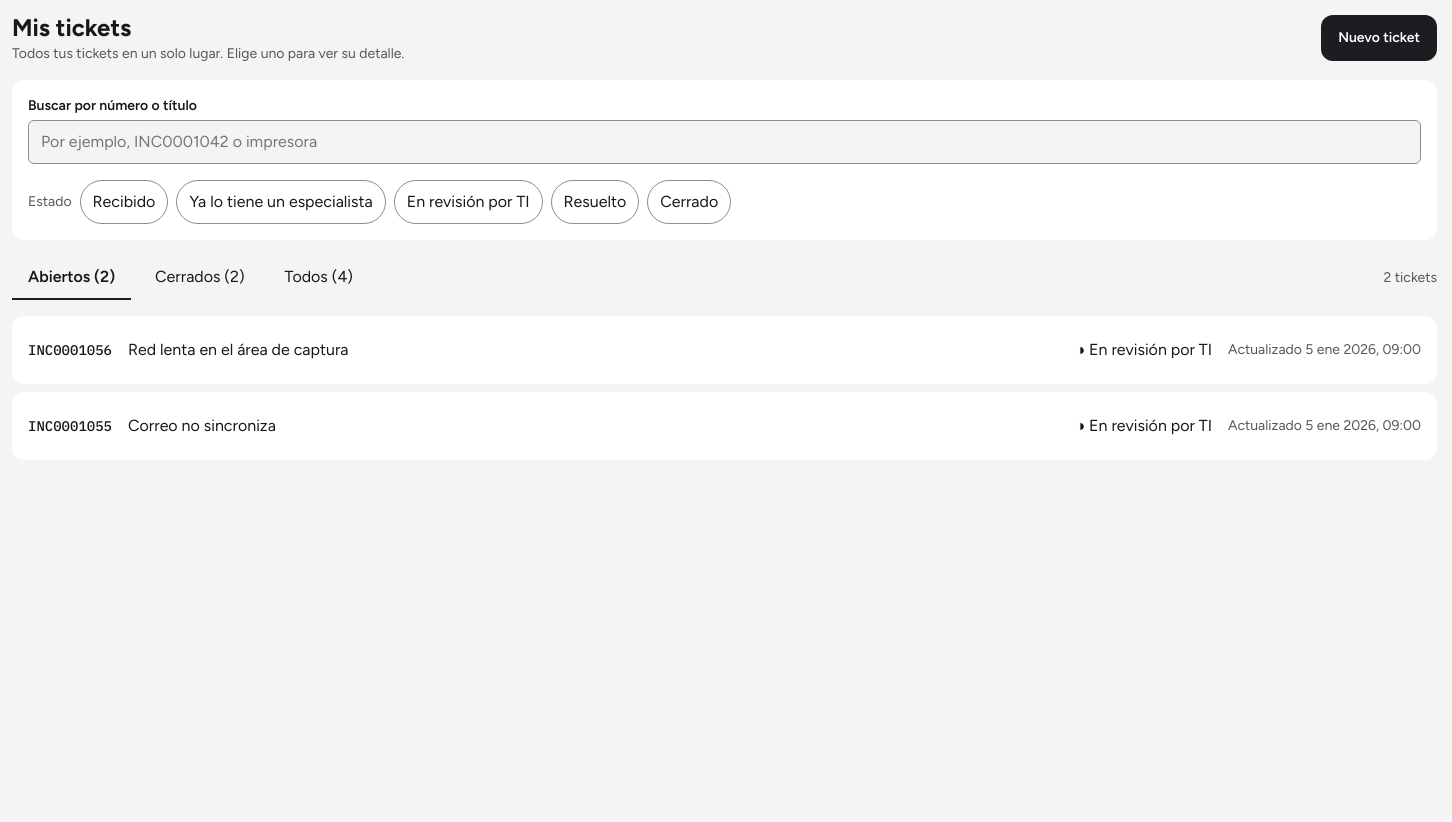
Scenario: MyTicketsContainer (U2) › S-UT-5/11: an empty result shows the empty state and 'Limpiar filtros' resets everything
Click the tab "Todos (4)" at (319, 278), box [269, 256, 369, 300]
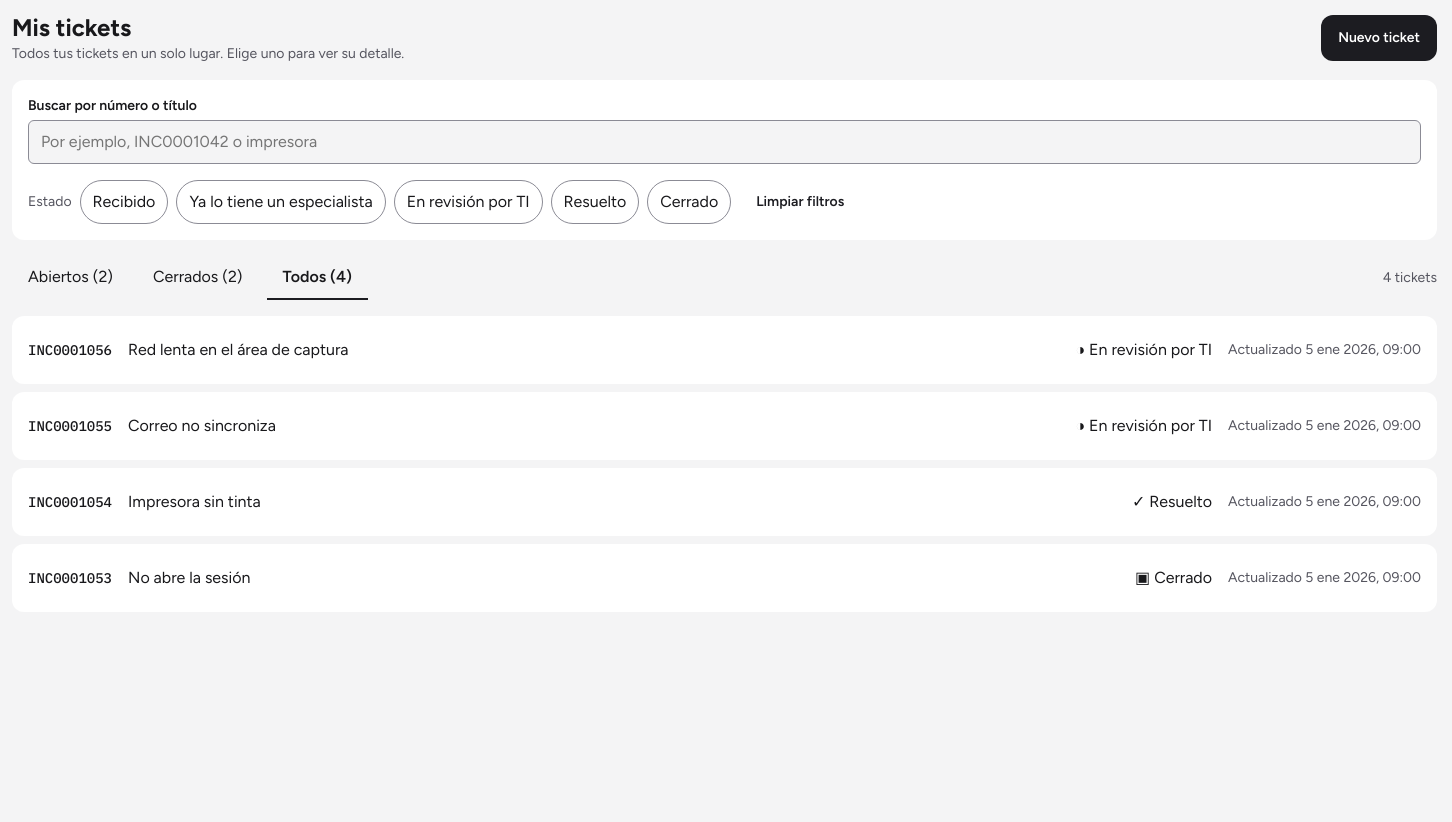
Type "zzz" into the search field labelled "Buscar por número o título" at (724, 142), box [28, 120, 1421, 164]
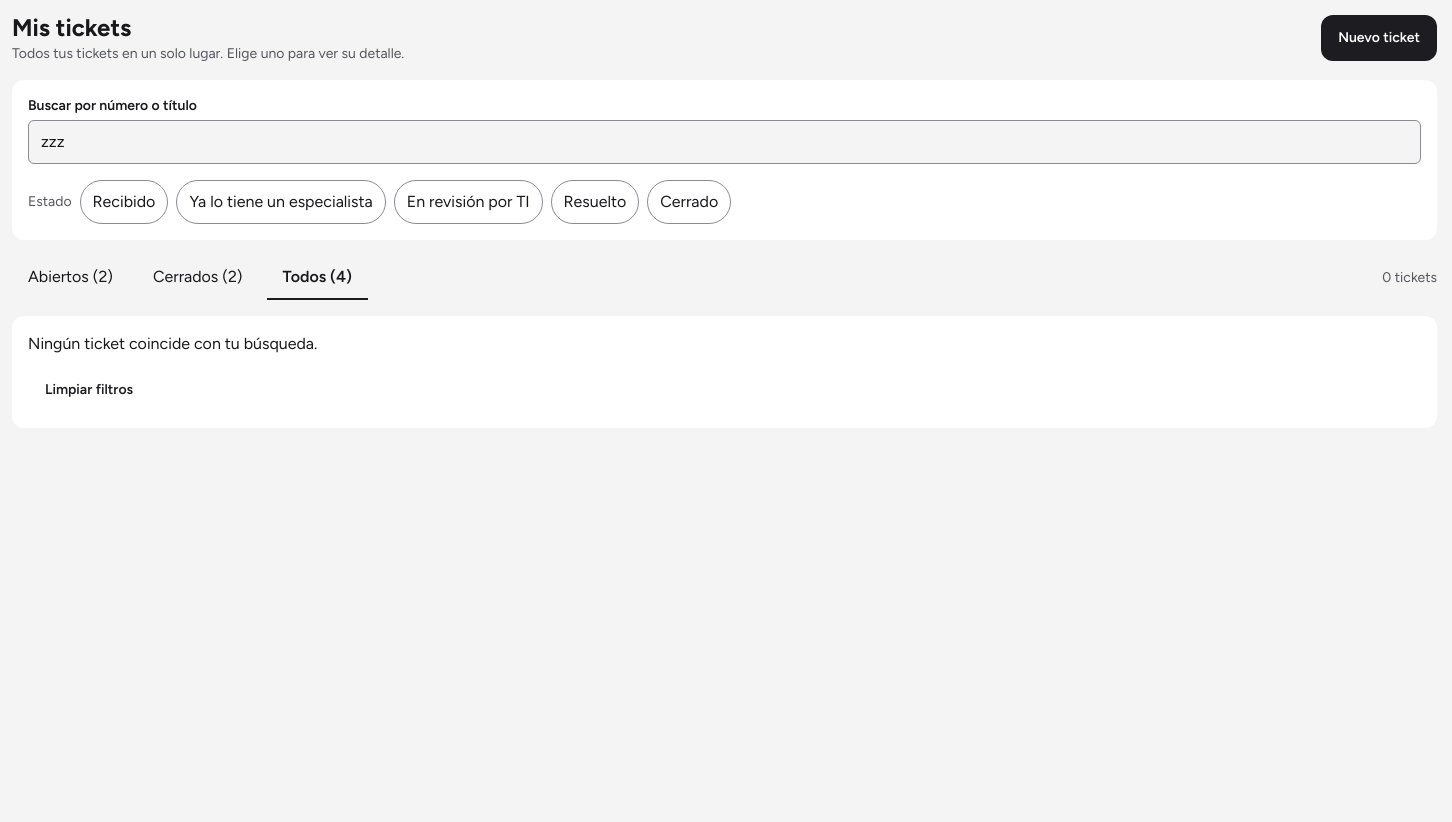
expect the text "Ningún ticket coincide con tu búsqueda." is shown: met, box [28, 332, 317, 356]
Click the button "Limpiar filtros" at (89, 390), box [28, 368, 150, 412]
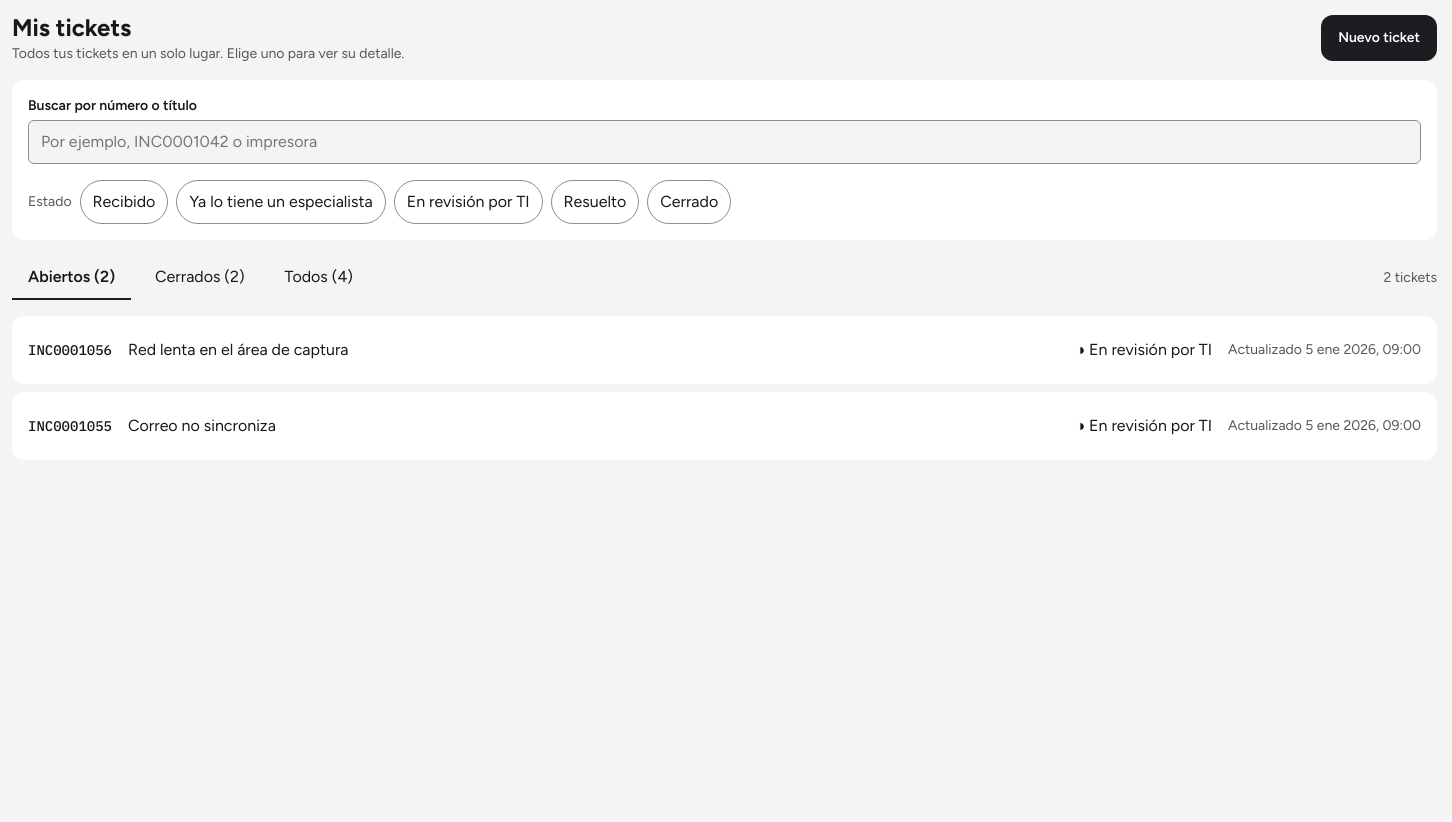
expect the search field labelled "Buscar por número o título" is empty: met, box [28, 120, 1421, 164]
